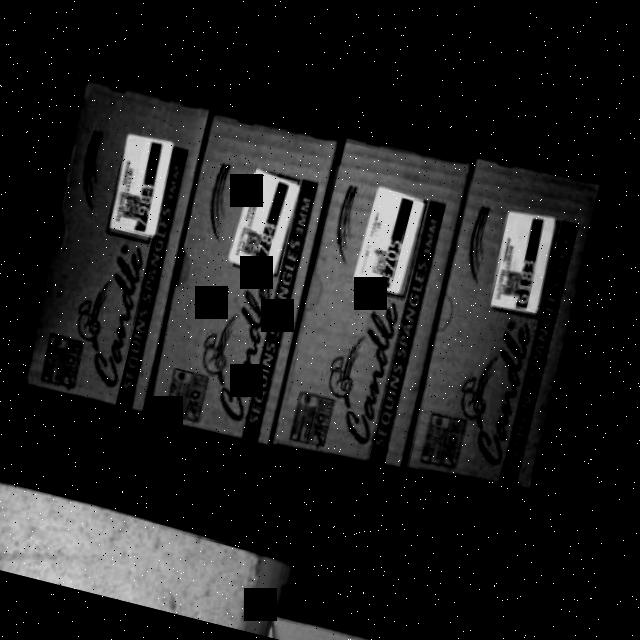box: (11, 77, 220, 420), (400, 154, 607, 500), (142, 117, 344, 441), (277, 142, 473, 468)
